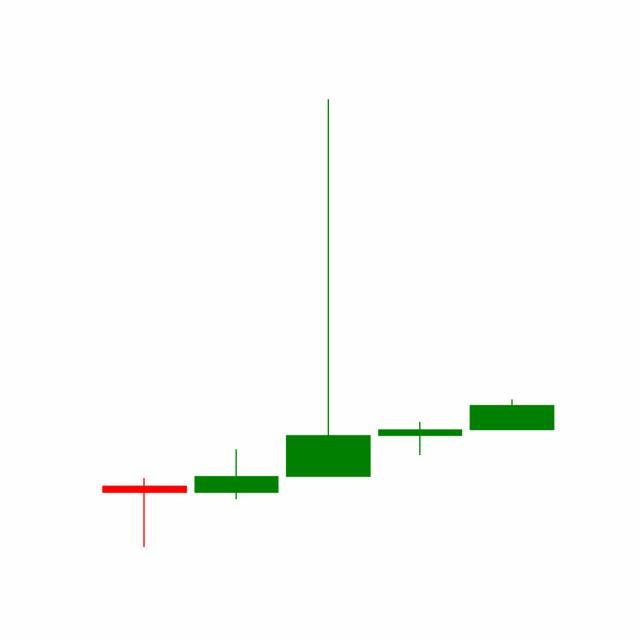Spinning Top: (374, 422, 468, 457)
